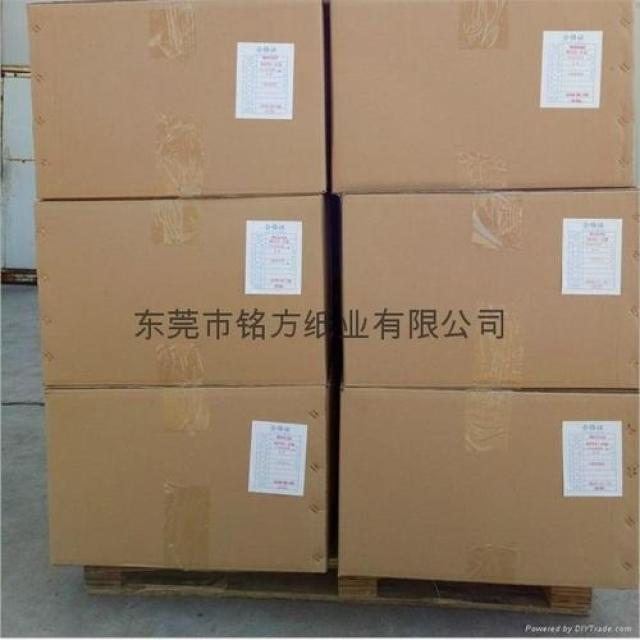box: (337, 187, 639, 392), (337, 389, 639, 589), (26, 0, 329, 198), (328, 1, 635, 191), (36, 195, 327, 388), (44, 385, 328, 570)
